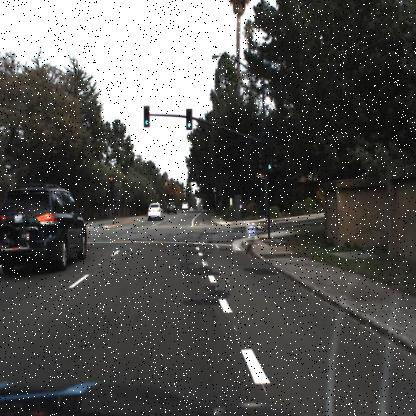car: (1, 180, 86, 268), (147, 199, 163, 222), (166, 202, 177, 214), (182, 200, 189, 210)
trafficLight-Green: (266, 150, 273, 173), (144, 103, 150, 128), (186, 106, 192, 130)
trafficLight-RedLeft: (107, 173, 116, 196)
